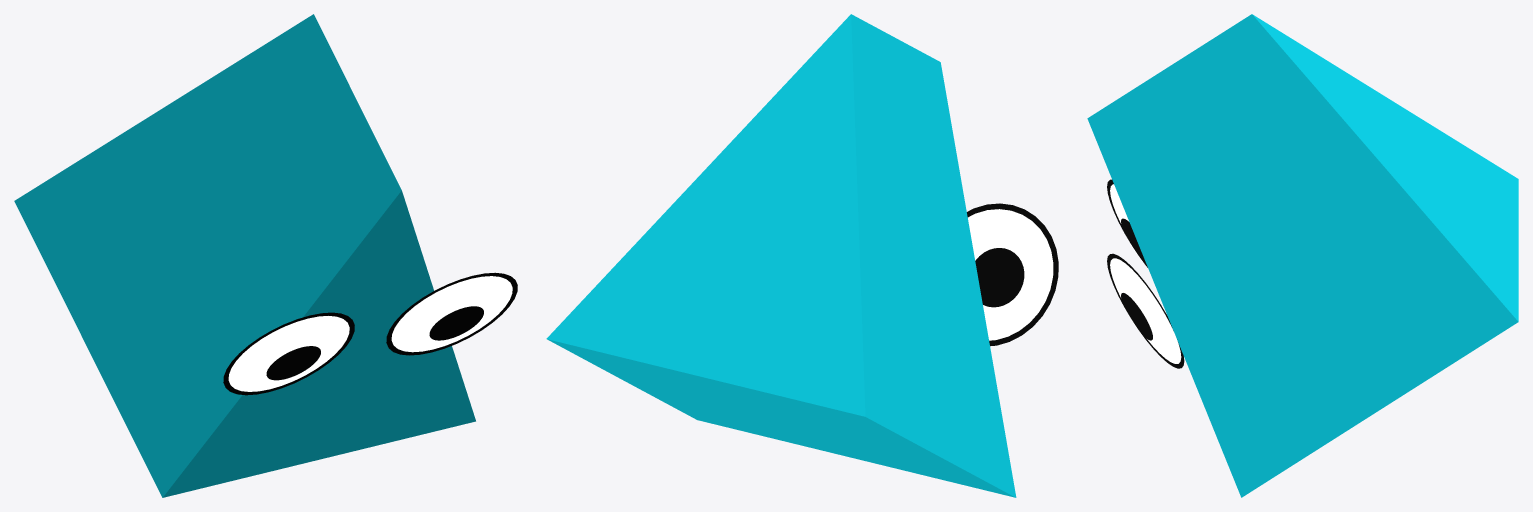
The model's file is Triangle.glb.
3 renders of one model, left to right at view 1: azimuth 30°, elevation 25°; view 2: azimuth 150°, elevation 25°; view 3: azimuth 270°, elevation 25°, orthographic. The views are drawn at different scales.
Parts seen in each view (by area): view 1: Triangle; view 2: Triangle; view 3: Triangle.
Part boxes in pixels (bbox=[...]): Triangle: bbox=[14, 14, 517, 497]; Triangle: bbox=[546, 14, 1058, 497]; Triangle: bbox=[1087, 14, 1518, 497].
Bounding box in the file's own units: 2 × 2.69 × 2.55.
